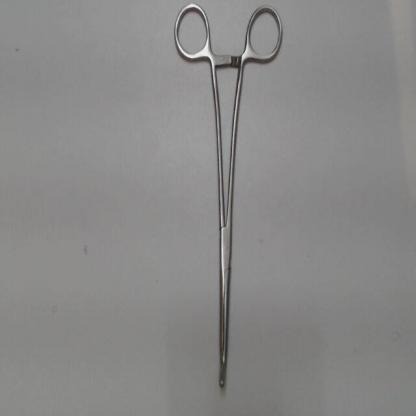Lahey Forceps: (167, 1, 289, 392)
